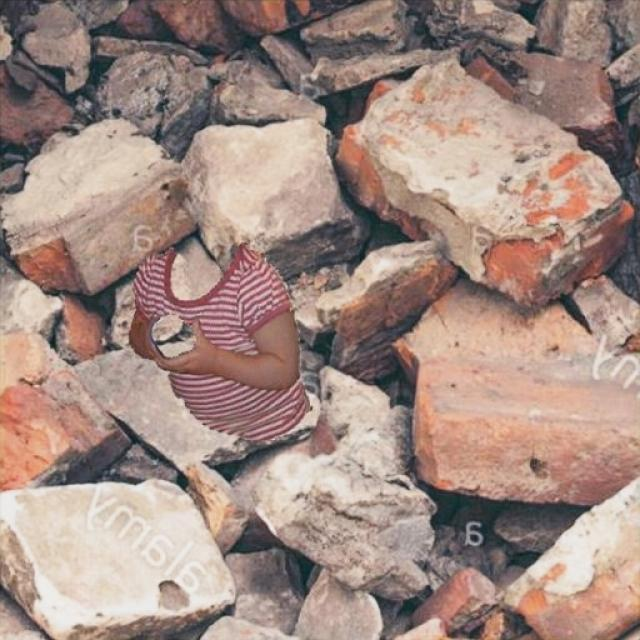Person in Rubble: (128, 242, 312, 438)
